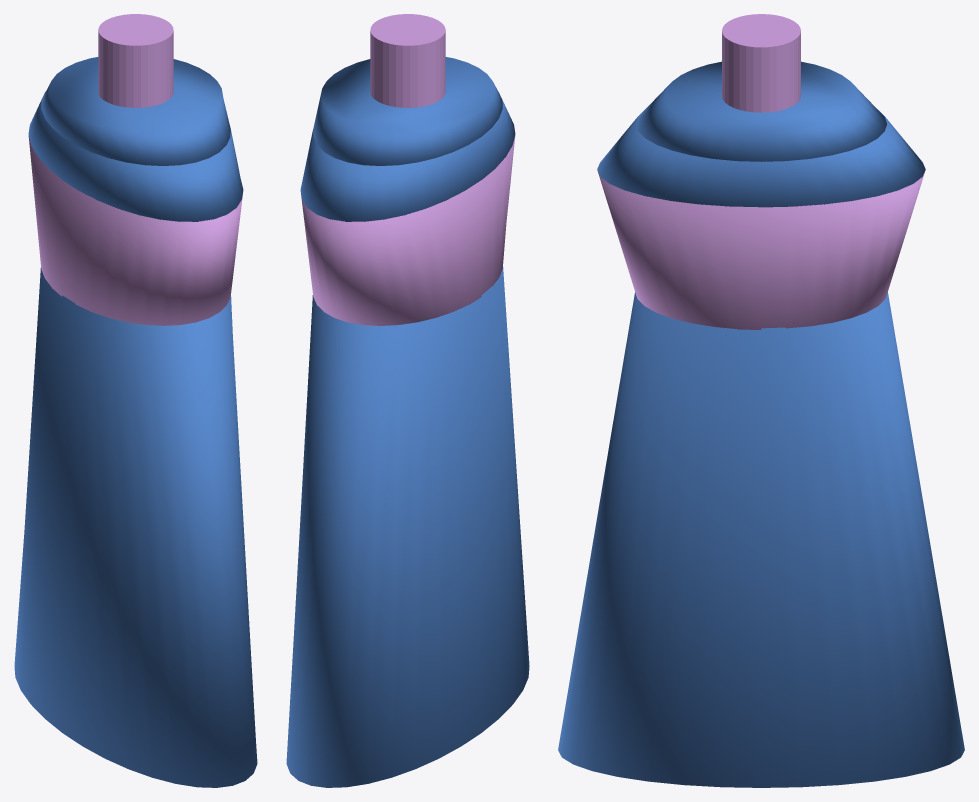
The model's file is cleaning bottle 1.fbx.
3 renders of one model, left to right at view 1: azimuth 30°, elevation 25°; view 2: azimuth 150°, elevation 25°; view 3: azimuth 270°, elevation 25°, orthographic. The views are drawn at different scales.
Parts seen in each view (by area): view 1: Cylinder; view 2: Cylinder; view 3: Cylinder.
Part boxes in pixels (x1=…): Cylinder: x1=14, y1=14, x2=257, y2=787; Cylinder: x1=286, y1=14, x2=529, y2=787; Cylinder: x1=558, y1=14, x2=964, y2=787.
Size of the model in its own units: 87.9 by 390 by 200.
